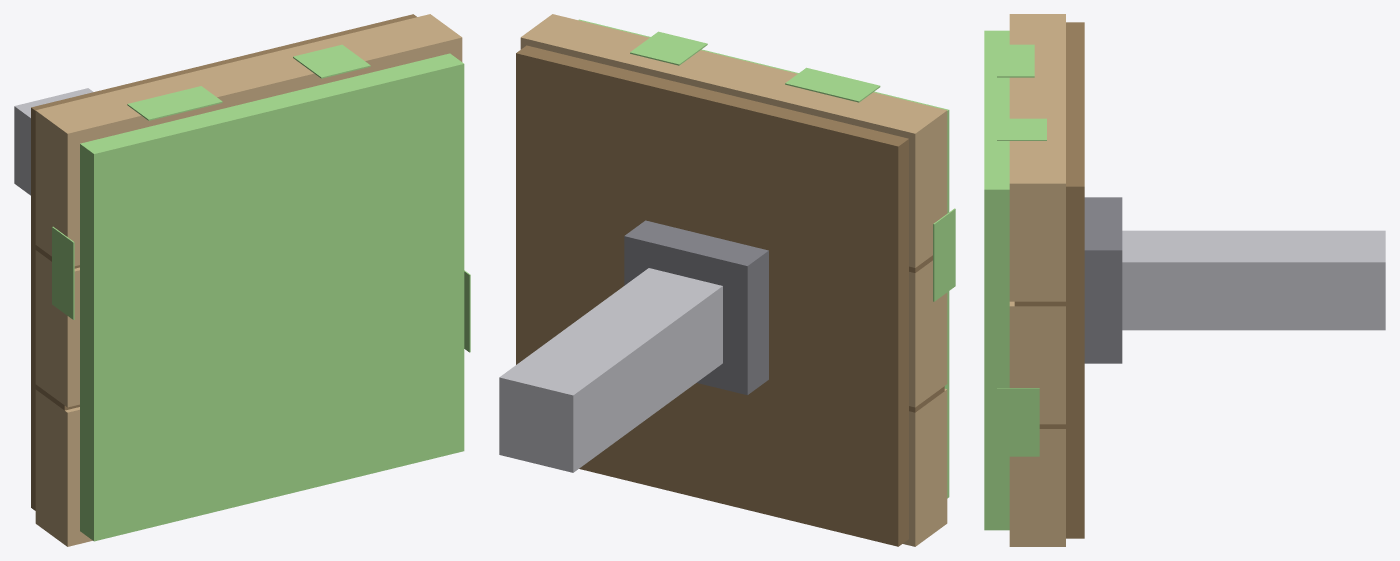
File: sticky_piston_long_head.gltf
3 views of the same model, side by side, from view 1: azimuth 30°, elevation 25°; view 2: azimuth 150°, elevation 25°; view 3: azimuth 270°, elevation 25° (orthographic). The views are drawn at different scales.
Parts seen in each view (by area): view 1: sticky_piston_long_head; view 2: sticky_piston_long_head; view 3: sticky_piston_long_head.
Boxes of the visible parts, <box> form: sticky_piston_long_head: <box>14,14,470,546</box>; sticky_piston_long_head: <box>499,14,955,546</box>; sticky_piston_long_head: <box>984,14,1385,546</box>.
Size of the model in its own units: 1.01 by 1 by 1.
